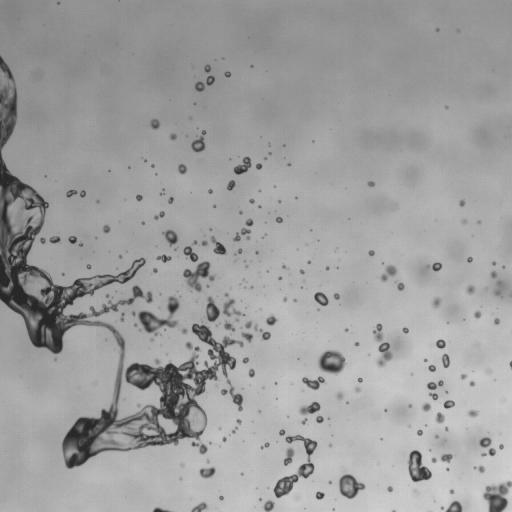droplet: (182, 260, 216, 292), (338, 470, 365, 499), (317, 349, 347, 375), (407, 450, 431, 482), (222, 292, 245, 316), (203, 295, 219, 322), (479, 437, 496, 457), (191, 130, 206, 152), (233, 156, 251, 174), (379, 264, 397, 282), (162, 229, 178, 247), (233, 227, 251, 241), (313, 292, 329, 306), (199, 466, 215, 478), (265, 312, 278, 326), (262, 500, 275, 511), (441, 353, 450, 368), (241, 332, 253, 343), (440, 453, 453, 463), (155, 254, 171, 262), (7, 164, 18, 175), (158, 218, 169, 229), (176, 236, 187, 247), (161, 243, 172, 254), (242, 246, 253, 257), (207, 252, 218, 263), (145, 257, 156, 268), (119, 259, 130, 270), (76, 267, 87, 278), (60, 276, 71, 287), (180, 283, 191, 294), (134, 298, 145, 309), (62, 305, 73, 316), (157, 308, 168, 319), (102, 311, 113, 322), (196, 314, 207, 325), (61, 330, 72, 341), (211, 330, 222, 341), (188, 333, 199, 344), (197, 351, 208, 362), (311, 366, 322, 377), (434, 366, 445, 377), (307, 389, 318, 400), (431, 400, 442, 411), (267, 431, 278, 442), (178, 436, 189, 447), (292, 440, 303, 451), (295, 452, 306, 463), (286, 463, 297, 474), (490, 475, 501, 486), (206, 497, 217, 508), (431, 296, 441, 308), (150, 118, 160, 129), (177, 163, 187, 174), (394, 280, 404, 291), (434, 339, 445, 349), (435, 412, 445, 423), (442, 400, 454, 409), (466, 285, 476, 295), (421, 402, 432, 411), (467, 409, 479, 417), (473, 465, 485, 473), (226, 180, 235, 190), (315, 490, 324, 500), (66, 189, 77, 197), (335, 391, 344, 400), (214, 72, 223, 81), (11, 125, 20, 134), (247, 165, 256, 174), (233, 173, 242, 182), (161, 202, 170, 211), (59, 236, 68, 245), (237, 238, 246, 247), (25, 256, 34, 265), (188, 262, 197, 271), (197, 275, 206, 284), (52, 276, 61, 285), (126, 278, 135, 287), (499, 284, 508, 293), (159, 298, 168, 307), (144, 303, 153, 312), (172, 310, 181, 319), (99, 312, 108, 321), (216, 313, 225, 322), (206, 320, 215, 329), (231, 331, 240, 340), (252, 331, 261, 340), (21, 333, 30, 342), (107, 335, 116, 344), (200, 342, 209, 351), (39, 346, 48, 355), (310, 357, 319, 366), (433, 358, 442, 367), (195, 362, 204, 371), (322, 370, 331, 379), (429, 372, 438, 381), (204, 378, 213, 387), (437, 393, 446, 402), (427, 409, 436, 418), (62, 422, 71, 431), (309, 453, 318, 462), (420, 457, 429, 466), (266, 491, 275, 500), (480, 499, 489, 508), (428, 392, 438, 400), (316, 413, 324, 423), (49, 236, 60, 243), (504, 441, 511, 452), (102, 224, 110, 233), (473, 310, 481, 319), (505, 490, 511, 501), (245, 218, 253, 226), (204, 64, 211, 73), (169, 133, 177, 140), (68, 236, 76, 243), (490, 270, 497, 278), (402, 326, 409, 334), (428, 364, 435, 372), (231, 426, 238, 434), (248, 368, 254, 377), (275, 216, 282, 223), (333, 293, 340, 300), (485, 368, 492, 375), (430, 456, 437, 463), (2, 56, 9, 63), (15, 104, 22, 111), (7, 135, 14, 142), (2, 142, 9, 149), (249, 159, 256, 166), (19, 176, 26, 183), (50, 230, 57, 237), (33, 233, 40, 240), (234, 240, 241, 247), (390, 259, 397, 266), (302, 263, 309, 270), (493, 264, 500, 271), (379, 266, 386, 273), (207, 267, 214, 274), (85, 269, 92, 276), (110, 269, 117, 276), (279, 269, 286, 276), (386, 274, 393, 281), (461, 281, 468, 288), (473, 282, 480, 289), (126, 290, 133, 297), (436, 291, 443, 298), (463, 292, 470, 299), (470, 292, 477, 299), (82, 293, 89, 300), (326, 293, 333, 300), (73, 296, 80, 303), (426, 296, 433, 303), (177, 298, 184, 305), (439, 300, 446, 307), (232, 302, 239, 309), (216, 303, 223, 310), (94, 304, 101, 311), (83, 307, 90, 314), (263, 311, 270, 318), (88, 314, 95, 321), (96, 314, 103, 321), (227, 315, 234, 322), (133, 316, 140, 323), (239, 316, 246, 323), (136, 321, 143, 328), (113, 322, 120, 329), (19, 323, 26, 330), (264, 324, 271, 331), (157, 325, 164, 332), (20, 326, 27, 333), (246, 327, 253, 334), (105, 329, 112, 336), (223, 329, 230, 336), (367, 332, 374, 339), (327, 344, 334, 351), (223, 345, 230, 352), (438, 347, 445, 354), (316, 349, 323, 356), (375, 350, 382, 357), (112, 354, 119, 361), (207, 359, 214, 366), (235, 359, 242, 366), (384, 359, 391, 366), (159, 360, 166, 367), (370, 360, 377, 367), (122, 361, 129, 368), (149, 361, 156, 368), (111, 362, 118, 369), (244, 362, 251, 369), (215, 368, 222, 375), (337, 369, 344, 376), (109, 372, 116, 379), (309, 373, 316, 380), (462, 377, 469, 384), (108, 383, 115, 390), (333, 385, 340, 392), (305, 386, 312, 393), (434, 386, 441, 393), (224, 393, 231, 400), (193, 394, 200, 401), (425, 396, 432, 403), (304, 399, 311, 406), (416, 400, 423, 407), (440, 407, 447, 414), (94, 411, 101, 418), (236, 411, 243, 418), (442, 418, 449, 425), (437, 422, 444, 429), (438, 429, 445, 436), (283, 441, 290, 448), (489, 441, 496, 448), (86, 456, 93, 463), (58, 459, 65, 466), (441, 460, 448, 467), (203, 462, 210, 469), (72, 464, 79, 471), (419, 478, 426, 485), (332, 481, 339, 488), (449, 494, 456, 501), (191, 499, 198, 506), (367, 181, 375, 187), (159, 188, 165, 196), (168, 196, 174, 204), (459, 199, 465, 207), (200, 240, 208, 246), (224, 71, 231, 77), (136, 194, 142, 201), (461, 218, 467, 225), (368, 250, 374, 257), (150, 268, 157, 274), (242, 357, 249, 363), (460, 373, 467, 379), (354, 386, 361, 392), (417, 428, 423, 435), (387, 485, 393, 492), (413, 488, 419, 495), (281, 264, 289, 269), (256, 163, 262, 169), (467, 256, 473, 262), (494, 318, 500, 324), (469, 380, 475, 386), (293, 494, 299, 500), (0, 69, 4, 78), (0, 299, 4, 308), (505, 505, 511, 511), (80, 190, 85, 197), (40, 237, 45, 244), (282, 295, 287, 302), (357, 377, 362, 384), (236, 418, 241, 425), (449, 488, 454, 495), (501, 396, 506, 402), (498, 443, 503, 449), (249, 198, 254, 203), (78, 241, 83, 246), (86, 264, 91, 269), (299, 269, 304, 274), (215, 322, 220, 327), (149, 337, 154, 342), (434, 434, 439, 439), (180, 462, 185, 467), (8, 65, 13, 70), (208, 70, 213, 75), (204, 71, 209, 76), (193, 77, 198, 82), (201, 78, 206, 83), (15, 89, 20, 94), (195, 90, 200, 95), (154, 114, 159, 119), (145, 120, 150, 125), (158, 123, 163, 128), (152, 128, 157, 133), (171, 128, 176, 133), (196, 131, 201, 136), (175, 135, 180, 140), (202, 138, 207, 143), (170, 139, 175, 144), (188, 147, 193, 152), (198, 150, 203, 155), (259, 159, 264, 164), (238, 160, 243, 165), (145, 161, 150, 166), (184, 162, 189, 167), (173, 163, 178, 168), (151, 167, 156, 172), (184, 170, 189, 175), (175, 171, 180, 176), (241, 171, 246, 176), (369, 176, 374, 181), (223, 180, 228, 185), (31, 184, 36, 189), (232, 185, 237, 190), (76, 187, 81, 192), (38, 191, 43, 196), (71, 193, 76, 198), (164, 194, 169, 199), (457, 195, 462, 200), (454, 200, 459, 205), (252, 201, 257, 206), (463, 202, 468, 207), (154, 210, 159, 215), (273, 212, 278, 217), (148, 214, 153, 219), (43, 215, 48, 220), (157, 216, 162, 221), (244, 224, 249, 229), (109, 226, 114, 231), (162, 226, 167, 231), (98, 227, 103, 232), (236, 227, 241, 232), (209, 230, 214, 235), (105, 231, 110, 236), (160, 234, 165, 239), (239, 234, 244, 239), (44, 238, 49, 243), (75, 238, 80, 243), (196, 239, 201, 244), (164, 240, 169, 245), (54, 241, 59, 246), (73, 241, 78, 246), (221, 241, 226, 246), (171, 242, 176, 247), (211, 243, 216, 248), (368, 245, 373, 250), (373, 248, 378, 253), (121, 252, 126, 257), (217, 253, 222, 258), (157, 258, 162, 263), (196, 258, 201, 263), (383, 261, 388, 266), (37, 264, 42, 269), (120, 267, 125, 272), (179, 267, 184, 272), (135, 269, 140, 274), (152, 272, 157, 277), (485, 272, 490, 277), (376, 277, 381, 282), (491, 277, 496, 282), (111, 281, 116, 286), (245, 282, 250, 287), (392, 283, 397, 288), (402, 286, 407, 291), (223, 287, 228, 292), (315, 287, 320, 292), (191, 288, 196, 293), (247, 288, 252, 293), (93, 289, 98, 294), (141, 289, 146, 294), (399, 289, 404, 294), (310, 290, 315, 295), (168, 291, 173, 296), (338, 291, 343, 296), (173, 293, 178, 298), (228, 293, 233, 298), (151, 294, 156, 299), (495, 295, 500, 300), (223, 296, 228, 301), (286, 297, 291, 302), (335, 298, 340, 303), (111, 299, 116, 304), (203, 299, 208, 304), (315, 302, 320, 307), (116, 304, 121, 309), (6, 307, 11, 312), (471, 307, 476, 312), (108, 308, 113, 313), (134, 310, 139, 315), (16, 313, 21, 318), (273, 313, 278, 318), (237, 314, 242, 319), (479, 314, 484, 319), (470, 315, 475, 320), (476, 317, 481, 322), (489, 318, 494, 323), (498, 319, 503, 324), (273, 321, 278, 326), (495, 323, 500, 328), (90, 324, 95, 329), (148, 331, 153, 336), (250, 336, 255, 341), (241, 337, 246, 342), (381, 337, 386, 342), (265, 338, 270, 343), (376, 340, 381, 345), (444, 341, 449, 346), (123, 342, 128, 347), (180, 342, 185, 347), (207, 344, 212, 349), (115, 345, 120, 350), (433, 345, 438, 350), (55, 352, 60, 357), (341, 352, 346, 357), (184, 356, 189, 361), (137, 359, 142, 364), (424, 361, 429, 366), (448, 361, 453, 366), (174, 362, 179, 367), (217, 364, 222, 369), (460, 368, 465, 373), (243, 370, 248, 375), (427, 370, 432, 375), (253, 372, 258, 377), (455, 373, 460, 378), (248, 376, 253, 381), (472, 377, 477, 382), (433, 378, 438, 383), (301, 382, 306, 387), (318, 382, 323, 387), (225, 385, 230, 390), (469, 385, 474, 390), (430, 388, 435, 393), (232, 389, 237, 394), (216, 390, 221, 395), (353, 391, 358, 396), (241, 394, 246, 399), (331, 395, 336, 400), (342, 396, 347, 401), (240, 401, 245, 406), (318, 401, 323, 406), (233, 403, 238, 408), (471, 405, 476, 410), (313, 410, 318, 415), (299, 414, 304, 419), (322, 414, 327, 419), (467, 415, 472, 420), (322, 418, 327, 423), (319, 421, 324, 426), (421, 427, 426, 432), (412, 428, 417, 433), (284, 431, 289, 436), (482, 432, 487, 437), (302, 433, 307, 438), (479, 433, 484, 438), (198, 434, 203, 439), (280, 434, 285, 439), (309, 435, 314, 440), (328, 437, 333, 442), (169, 441, 174, 446), (220, 441, 225, 446), (204, 442, 209, 447), (475, 442, 480, 447), (146, 444, 151, 449), (154, 444, 159, 449), (194, 445, 199, 450), (412, 445, 417, 450), (494, 446, 499, 451), (137, 447, 142, 452), (301, 447, 306, 452), (407, 447, 412, 452), (483, 447, 488, 452), (129, 448, 134, 453), (312, 448, 317, 453), (418, 448, 423, 453), (105, 449, 110, 454), (112, 449, 117, 454), (444, 449, 449, 454), (97, 451, 102, 456), (203, 451, 208, 456), (485, 453, 490, 458), (404, 454, 409, 459), (491, 454, 496, 459), (435, 455, 440, 460), (403, 462, 408, 467), (312, 468, 317, 473), (474, 468, 479, 473), (345, 469, 350, 474), (404, 470, 409, 475), (195, 471, 200, 476), (338, 471, 343, 476), (211, 473, 216, 478), (278, 473, 283, 478), (308, 473, 313, 478), (297, 475, 302, 480), (406, 475, 411, 480), (355, 477, 360, 482), (271, 481, 276, 486), (292, 481, 297, 486), (391, 484, 396, 489), (391, 488, 396, 493), (288, 489, 293, 494), (356, 489, 361, 494), (280, 494, 285, 499), (341, 495, 346, 500), (319, 497, 324, 502), (204, 499, 209, 504), (260, 499, 265, 504), (150, 504, 155, 509), (159, 504, 164, 509), (443, 504, 448, 509), (222, 436, 226, 442), (208, 189, 213, 193), (238, 210, 243, 214), (476, 220, 481, 224), (174, 246, 178, 251), (242, 278, 247, 282), (248, 285, 253, 289), (483, 286, 487, 291), (105, 293, 109, 298), (292, 298, 297, 302), (133, 322, 137, 327), (354, 342, 359, 346), (219, 495, 223, 500), (444, 105, 448, 109), (150, 163, 154, 167), (96, 199, 100, 203), (141, 221, 145, 225), (118, 254, 122, 258), (234, 258, 238, 262), (307, 260, 311, 264), (492, 261, 496, 265), (501, 265, 505, 269), (325, 266, 329, 270), (278, 276, 282, 280), (344, 328, 348, 332), (423, 358, 427, 362), (214, 383, 218, 387), (261, 385, 265, 389), (444, 390, 448, 394), (408, 403, 412, 407), (328, 443, 332, 447), (445, 467, 449, 471), (328, 480, 332, 484), (286, 163, 291, 166), (255, 249, 258, 254), (445, 426, 448, 431), (206, 458, 209, 463), (179, 476, 182, 481), (508, 476, 511, 481), (200, 508, 205, 511), (260, 508, 265, 511), (269, 508, 274, 511), (460, 508, 465, 511), (435, 28, 439, 31), (456, 29, 460, 32), (188, 116, 192, 119), (277, 200, 281, 203), (212, 204, 216, 207), (258, 204, 261, 208), (243, 259, 246, 263), (244, 265, 248, 268), (61, 272, 64, 276), (302, 279, 305, 283), (238, 283, 241, 287), (195, 299, 198, 303), (165, 352, 168, 356), (54, 357, 57, 361), (274, 381, 277, 385), (345, 401, 349, 404), (258, 409, 261, 413), (384, 408, 387, 412), (286, 414, 289, 418), (218, 426, 221, 430), (208, 441, 212, 444), (332, 507, 335, 511), (391, 509, 396, 511), (57, 1, 60, 4), (250, 64, 253, 67), (193, 102, 196, 105), (282, 144, 285, 147), (268, 152, 271, 155), (154, 172, 157, 175), (273, 185, 276, 188), (258, 189, 261, 192), (294, 196, 297, 199), (209, 228, 212, 231), (115, 267, 118, 270), (266, 270, 269, 273), (206, 284, 209, 287), (300, 286, 303, 289), (316, 308, 319, 311), (462, 318, 465, 321), (446, 321, 449, 324), (410, 372, 413, 375), (290, 382, 293, 385), (327, 417, 330, 420), (407, 424, 410, 427), (380, 437, 383, 440), (240, 472, 243, 475), (266, 486, 269, 489), (258, 498, 261, 501), (54, 3, 57, 6), (58, 3, 61, 6), (436, 24, 439, 27), (433, 25, 436, 28), (438, 29, 441, 32), (435, 31, 438, 34), (206, 61, 209, 64), (250, 61, 253, 64), (209, 64, 212, 67), (249, 67, 252, 70), (201, 68, 204, 71), (224, 68, 227, 71), (227, 68, 230, 71), (222, 74, 225, 77), (229, 74, 232, 77), (225, 76, 228, 79), (212, 81, 215, 84), (199, 90, 202, 93), (445, 102, 448, 105), (192, 104, 195, 107), (441, 106, 444, 109), (205, 129, 208, 132), (311, 136, 314, 139), (308, 139, 311, 142), (282, 140, 285, 143), (285, 143, 288, 146), (281, 146, 284, 149), (268, 148, 271, 151), (271, 151, 274, 154), (244, 153, 247, 156), (266, 154, 269, 157), (143, 155, 146, 158), (140, 159, 143, 162), (151, 160, 154, 163), (285, 160, 288, 163), (289, 160, 292, 163), (177, 161, 180, 164), (154, 164, 157, 167), (124, 165, 127, 168), (130, 165, 133, 168), (287, 165, 290, 168), (107, 166, 110, 169), (260, 166, 263, 169), (104, 168, 107, 171), (110, 168, 113, 171), (127, 168, 130, 171), (43, 171, 46, 174), (107, 171, 110, 174), (157, 172, 160, 175), (40, 174, 43, 177), (46, 175, 49, 178), (154, 175, 157, 178), (43, 177, 46, 180), (274, 182, 277, 185), (161, 184, 164, 187), (70, 186, 73, 189), (206, 186, 209, 189), (210, 186, 213, 189), (370, 186, 373, 189), (67, 187, 70, 190), (255, 187, 258, 190), (260, 187, 263, 190), (273, 187, 276, 190), (159, 189, 162, 192), (163, 189, 166, 192), (85, 191, 88, 194), (205, 191, 208, 194), (76, 192, 79, 195), (139, 192, 142, 195), (156, 192, 159, 195), (210, 192, 213, 195), (63, 193, 66, 196), (133, 193, 136, 196), (295, 193, 298, 196), (171, 194, 174, 197), (83, 195, 86, 198), (249, 195, 252, 198), (66, 196, 69, 199), (96, 196, 99, 199), (278, 196, 281, 199), (291, 196, 294, 199), (133, 197, 136, 200), (295, 198, 298, 201), (99, 199, 102, 202), (139, 199, 142, 202), (171, 200, 174, 203), (274, 200, 277, 203), (280, 200, 283, 203), (212, 201, 215, 204), (94, 202, 97, 205), (248, 202, 251, 205), (215, 203, 218, 206), (260, 203, 263, 206), (209, 204, 212, 207), (45, 207, 48, 210), (211, 207, 214, 210), (257, 207, 260, 210), (163, 210, 166, 213), (237, 213, 240, 216), (281, 216, 284, 219), (272, 217, 275, 220), (476, 217, 479, 220), (139, 218, 142, 221), (152, 218, 155, 221), (143, 219, 146, 222), (252, 220, 255, 223), (274, 221, 277, 224), (280, 221, 283, 224), (139, 223, 142, 226), (143, 223, 146, 226), (308, 225, 311, 228), (211, 226, 214, 229), (311, 228, 314, 231), (309, 231, 312, 234), (73, 233, 76, 236), (233, 233, 236, 236), (260, 233, 263, 236), (264, 235, 267, 238), (193, 236, 196, 239), (316, 236, 319, 239), (260, 238, 263, 241), (319, 238, 322, 241), (314, 240, 317, 243), (67, 241, 70, 244), (82, 243, 85, 246), (185, 243, 188, 246), (79, 246, 82, 249), (255, 247, 258, 250), (252, 249, 255, 252), (241, 250, 244, 253), (258, 250, 261, 253), (159, 252, 162, 255), (236, 252, 239, 255), (252, 252, 255, 255), (365, 252, 368, 255), (182, 253, 185, 256), (115, 254, 118, 257), (372, 254, 375, 257), (142, 255, 145, 258), (233, 255, 236, 258), (471, 255, 474, 258), (136, 256, 139, 259), (464, 257, 467, 260), (131, 258, 134, 261), (490, 258, 493, 261), (304, 259, 307, 262), (379, 259, 382, 262), (435, 259, 438, 262), (310, 260, 313, 263), (470, 260, 473, 263), (88, 261, 91, 264), (245, 261, 248, 264), (466, 261, 469, 264), (128, 263, 131, 266), (307, 263, 310, 266), (334, 263, 337, 266), (278, 264, 281, 267), (338, 264, 341, 267), (83, 265, 86, 268), (90, 265, 93, 268), (328, 265, 331, 268), (504, 265, 507, 268), (322, 266, 325, 269), (245, 267, 248, 270), (267, 267, 270, 270), (156, 268, 159, 271), (334, 268, 337, 271), (337, 268, 340, 271), (60, 269, 63, 272), (63, 270, 66, 273), (296, 270, 299, 273), (434, 270, 437, 273), (103, 271, 106, 274), (263, 271, 266, 274), (99, 272, 102, 275), (267, 272, 270, 275), (277, 273, 280, 276), (299, 273, 302, 276), (213, 276, 216, 279), (244, 277, 247, 280), (238, 279, 241, 282), (279, 279, 282, 282), (399, 279, 402, 282), (396, 280, 399, 283), (402, 281, 405, 284), (242, 282, 245, 285), (252, 283, 255, 286), (302, 284, 305, 287), (297, 286, 300, 289), (251, 288, 254, 291), (293, 295, 296, 298), (107, 296, 110, 299), (280, 296, 283, 299), (282, 301, 285, 304), (292, 301, 295, 304), (122, 315, 125, 318), (464, 319, 467, 322), (376, 320, 379, 323), (198, 322, 201, 325), (401, 324, 404, 327), (346, 325, 349, 328), (256, 326, 259, 329), (407, 326, 410, 329), (341, 328, 344, 331), (347, 329, 350, 332), (401, 331, 404, 334), (405, 332, 408, 335), (156, 334, 159, 337), (439, 336, 442, 339), (435, 337, 438, 340), (443, 338, 446, 341), (263, 339, 266, 342), (353, 339, 356, 342), (358, 341, 361, 344), (355, 345, 358, 348), (243, 354, 246, 357), (296, 354, 299, 357), (247, 355, 250, 358), (424, 355, 427, 358), (293, 356, 296, 359), (299, 357, 302, 360), (448, 357, 451, 360), (344, 358, 347, 361), (420, 358, 423, 361), (296, 359, 299, 362), (506, 363, 509, 366), (425, 366, 428, 369), (358, 374, 361, 377), (354, 377, 357, 380), (442, 379, 445, 382), (355, 380, 358, 383), (230, 381, 233, 384), (359, 381, 362, 384), (271, 382, 274, 385), (276, 382, 279, 385), (259, 388, 262, 391), (447, 389, 450, 392), (272, 396, 275, 399), (277, 397, 280, 400), (274, 399, 277, 402), (315, 399, 318, 402), (408, 400, 411, 403), (454, 401, 457, 404), (345, 403, 348, 406), (440, 403, 443, 406), (411, 404, 414, 407), (408, 407, 411, 410), (260, 408, 263, 411), (240, 409, 243, 412), (386, 409, 389, 412), (204, 410, 207, 413), (381, 410, 384, 413), (255, 411, 258, 414), (260, 411, 263, 414), (206, 415, 209, 418), (283, 415, 286, 418), (206, 420, 209, 423), (304, 420, 307, 423), (240, 421, 243, 424), (235, 422, 238, 425), (299, 423, 302, 426), (419, 426, 422, 429), (447, 426, 450, 429), (276, 429, 279, 432), (444, 430, 447, 433), (230, 432, 233, 435), (276, 432, 279, 435), (421, 432, 424, 435), (224, 434, 227, 437), (379, 434, 382, 437), (416, 434, 419, 437), (431, 434, 434, 437), (219, 437, 222, 440), (382, 437, 385, 440), (436, 437, 439, 440), (225, 438, 228, 441), (378, 439, 381, 442), (326, 441, 329, 444), (316, 442, 319, 445), (502, 442, 505, 445), (268, 443, 271, 446), (331, 444, 334, 447), (428, 445, 431, 448), (263, 446, 266, 449), (258, 448, 261, 451), (449, 458, 452, 461), (280, 460, 283, 463), (475, 464, 478, 467), (313, 465, 316, 468), (470, 466, 473, 469), (448, 467, 451, 470), (238, 469, 241, 472), (242, 470, 245, 473), (238, 474, 241, 477), (325, 479, 328, 482), (319, 489, 322, 492), (446, 489, 449, 492), (453, 489, 456, 492), (388, 491, 391, 494), (219, 492, 222, 495), (312, 493, 315, 496), (222, 494, 225, 497), (256, 495, 259, 498), (322, 495, 325, 498), (216, 497, 219, 500), (222, 497, 225, 500), (300, 506, 303, 509), (391, 506, 394, 509), (268, 142, 270, 146), (263, 157, 267, 159), (243, 286, 247, 288), (221, 57, 224, 59), (44, 175, 47, 177), (95, 236, 97, 239), (155, 245, 158, 247), (381, 262, 384, 264), (336, 266, 338, 269), (159, 292, 161, 295), (259, 308, 262, 310), (239, 326, 242, 328), (105, 338, 107, 341), (368, 353, 370, 356), (301, 389, 304, 391), (424, 424, 427, 426), (428, 449, 431, 451), (255, 487, 258, 489), (433, 499, 435, 502), (302, 509, 305, 511), (329, 509, 332, 511), (333, 509, 336, 511), (312, 140, 314, 142), (229, 158, 231, 160), (128, 166, 130, 168), (264, 221, 266, 223), (310, 229, 312, 231), (317, 239, 319, 241), (296, 248, 298, 250), (240, 300, 242, 302), (297, 357, 299, 359), (228, 434, 230, 436), (331, 434, 333, 436), (56, 0, 59, 1), (108, 170, 110, 171), (115, 290, 116, 292), (242, 387, 243, 389), (219, 445, 220, 447), (348, 218, 349, 219)
ligament: (273, 429, 317, 498), (372, 323, 393, 367), (244, 320, 270, 340), (301, 376, 327, 390), (194, 75, 214, 91), (210, 235, 226, 255), (440, 500, 462, 511), (283, 447, 294, 466), (493, 280, 503, 298), (426, 380, 445, 389), (190, 502, 208, 511), (426, 262, 442, 271), (153, 211, 165, 220), (152, 507, 174, 511), (233, 248, 242, 255), (260, 442, 269, 449), (120, 312, 125, 322), (261, 232, 267, 238), (141, 157, 147, 162), (509, 360, 511, 370), (334, 247, 338, 251), (158, 306, 161, 311), (509, 290, 511, 297), (275, 397, 278, 399), (251, 420, 253, 423), (427, 510, 433, 511)
